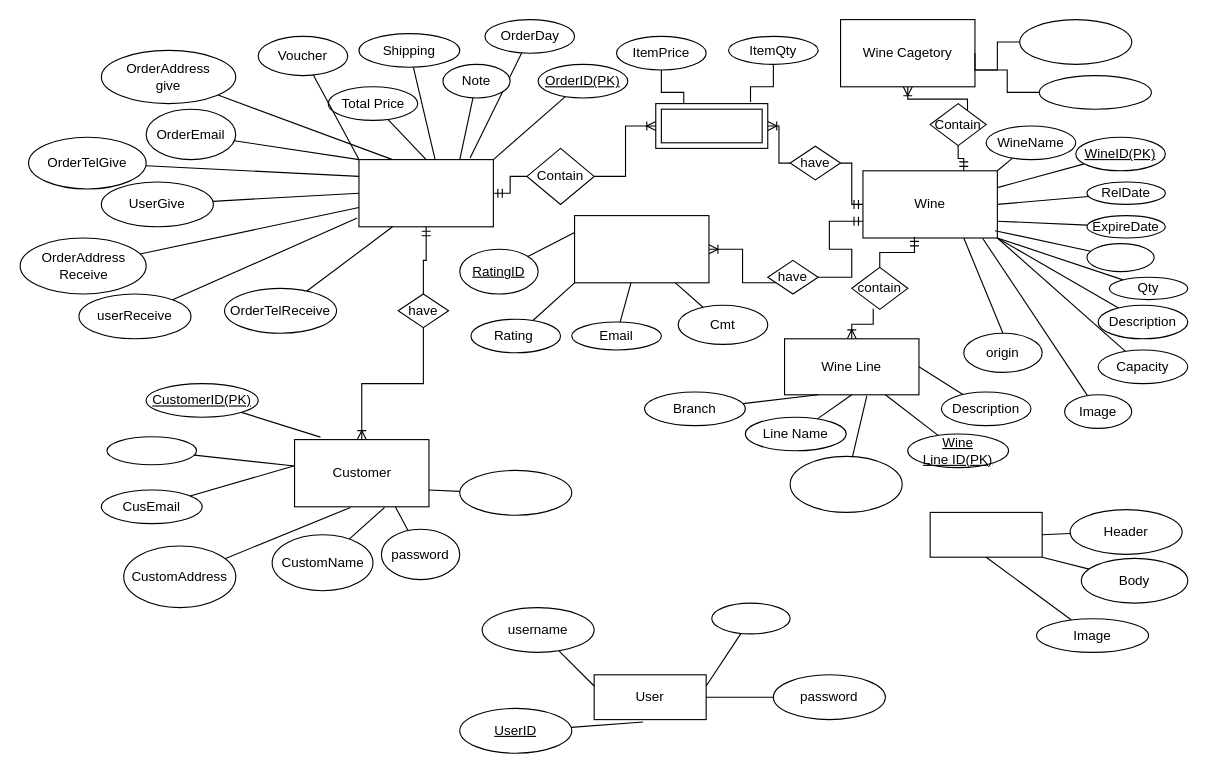
Image size: 1207x773. Some labels were removed from this diagram. The shapes that lost their labels are listed below. From the top down, each one's centre as x and y in pixels, then its label:
At point 1075,41: "Wine CagetoyID(PK)".
At point 1094,91: "Cagetory name".
At point 711,125: "Order Product".
At point 425,192: "Order".
At point 641,248: "Evaluate".
At point 1120,257: "Price".
At point 151,450: "CusTel".
At point 515,492: "CusUsername".
At point 845,483: "Alcohol Concentration".
At point 985,534: "News".
At point 750,618: "Role".
